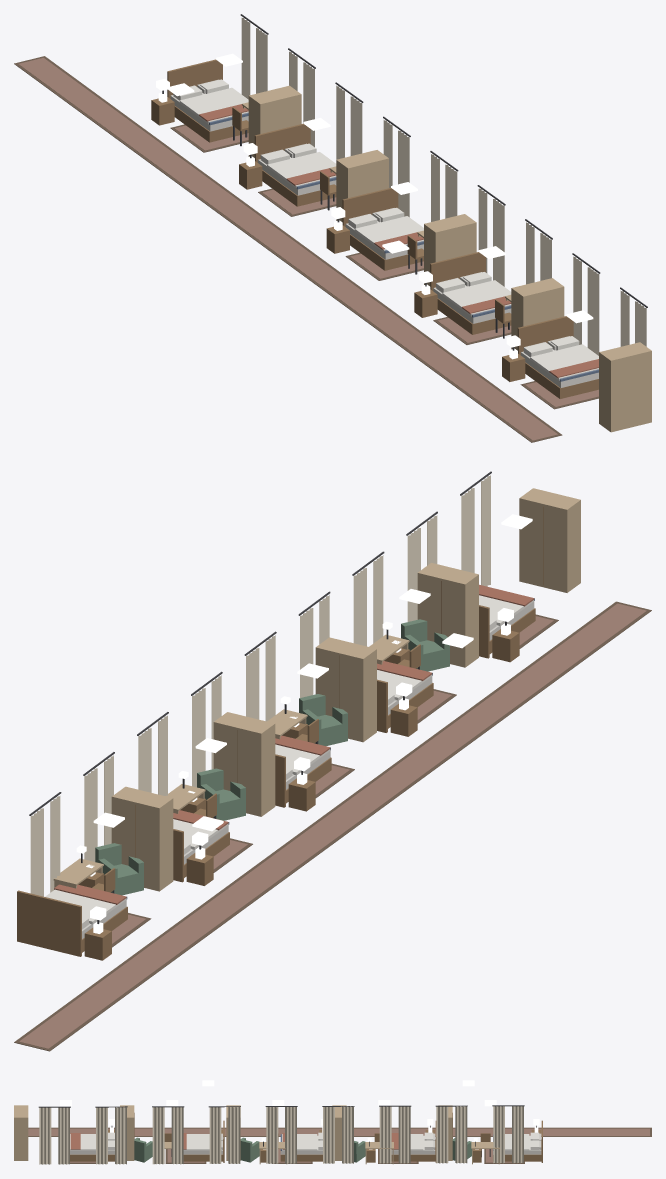
The model's file is fine-s2.glb.
The picture shows the model from 3 angles, top to bottom: view 1: azimuth 30°, elevation 25°; view 2: azimuth 150°, elevation 25°; view 3: azimuth 270°, elevation 25°; orthographic projection. The views are drawn at different scales.
Visible parts, largest first — view 1: soft-s2, dresser.009, bed-frame.009, bed-frame.006, bed-frame.008, bed-frame.007, bed-frame.005, dresser.008, dresser.005, dresser.006, dresser.007, nightstand.008 (+4 smaller); view 2: soft-s2, dresser.009, dresser.005, dresser.006, dresser.007, dresser.008, bed-frame.005, lounge-chair.005, lounge-chair.006, lounge-chair.004, lounge-chair.007, bed-frame.006 (+9 smaller); view 3: soft-s2, dresser.009, bed-frame.006, dresser.008, bed-frame.008, bed-frame.005, lounge-chair.006, dresser.006, lounge-chair.007, bed-frame.009, bed-frame.007, dresser.005 (+6 smaller).
Part boxes in pixels (left/top/right/bottom): soft-s2: left=14, top=14, right=647, bottom=442; dresser.009: left=599, top=342, right=651, bottom=432; bed-frame.009: left=517, top=316, right=598, bottom=398; bed-frame.006: left=254, top=123, right=336, bottom=206; bed-frame.008: left=430, top=252, right=511, bottom=334; bed-frame.007: left=342, top=188, right=423, bottom=270; bed-frame.005: left=167, top=59, right=248, bottom=142; dresser.008: left=511, top=278, right=564, bottom=350; dresser.005: left=248, top=85, right=301, bottom=157; dresser.006: left=336, top=150, right=388, bottom=221; dresser.007: left=424, top=214, right=476, bottom=285; nightstand.008: left=414, top=284, right=437, bottom=317; soft-s2: left=14, top=471, right=651, bottom=1051; dresser.009: left=519, top=488, right=580, bottom=592; dresser.005: left=111, top=786, right=173, bottom=891; dresser.006: left=213, top=712, right=275, bottom=816; dresser.007: left=315, top=637, right=376, bottom=742; dresser.008: left=417, top=563, right=478, bottom=667; bed-frame.005: left=17, top=890, right=127, bottom=956; lounge-chair.005: left=197, top=768, right=245, bottom=820; lounge-chair.006: left=299, top=694, right=347, bottom=745; lounge-chair.004: left=95, top=843, right=143, bottom=895; lounge-chair.007: left=401, top=619, right=449, bottom=671; bed-frame.006: left=173, top=822, right=229, bottom=882; soft-s2: left=28, top=1105, right=651, bottom=1164; dresser.009: left=14, top=1105, right=28, bottom=1160; bed-frame.006: left=391, top=1121, right=436, bottom=1162; dresser.008: left=120, top=1105, right=134, bottom=1160; bed-frame.008: left=183, top=1120, right=224, bottom=1162; bed-frame.005: left=493, top=1120, right=542, bottom=1162; lounge-chair.006: left=240, top=1137, right=259, bottom=1162; dresser.006: left=332, top=1105, right=346, bottom=1160; lounge-chair.007: left=134, top=1137, right=152, bottom=1162; bed-frame.009: left=70, top=1139, right=114, bottom=1161; bed-frame.007: left=280, top=1134, right=322, bottom=1161; dresser.005: left=438, top=1105, right=452, bottom=1160.
Bounding box in the file's own units: 3.72 × 2.71 × 26.67.
